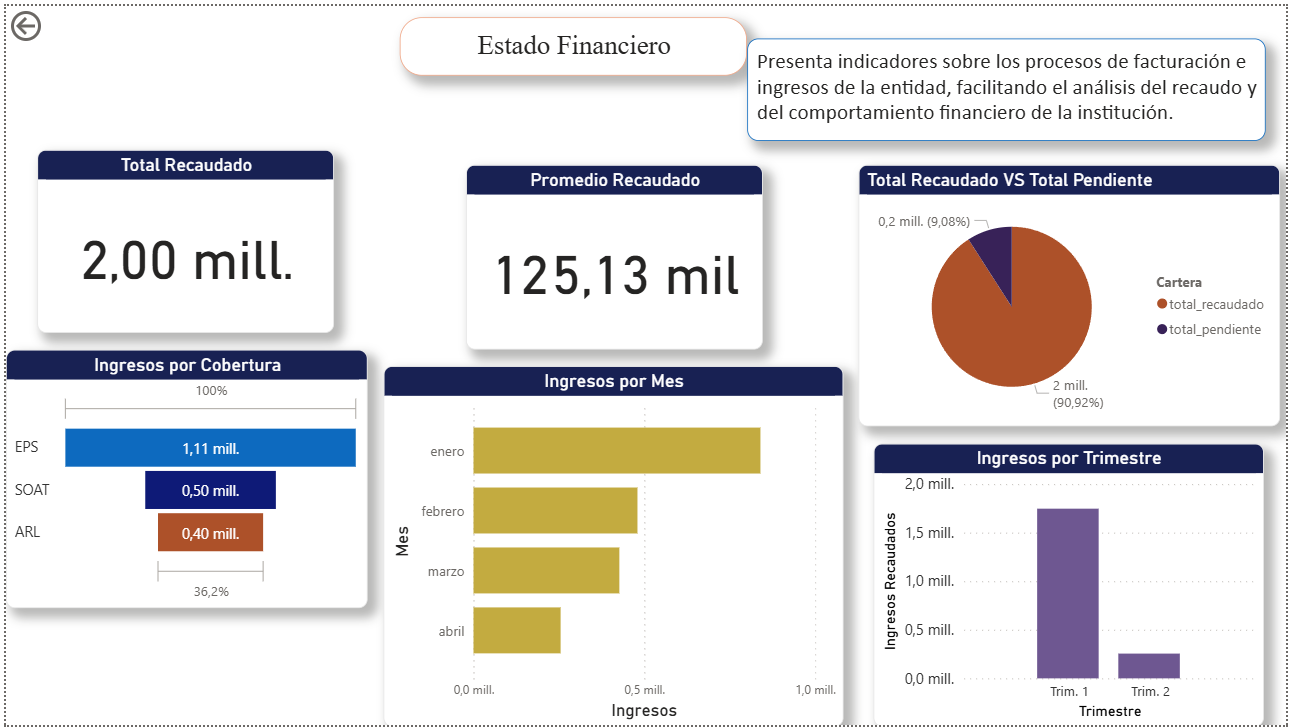

The page's visual inventory and layout, read from the dashboard file:
{"tool":"powerbi","page":{"name":"Facturación","canvas":[1280,720],"ordinal":2},"visuals":[{"type":"actionButton","box":[0,0,100,40],"z":0},{"type":"card","title":"Total Recaudado","fields":{"Values":["proyecto_hospital facturacion.total_recaudado"]},"box":[31.8,144.3,297.1,183.4],"z":1000},{"type":"card","title":"Promedio Recaudado","fields":{"Values":["proyecto_hospital facturacion.promedio_recaudado"]},"box":[459.8,159,297.1,184.6],"z":2000},{"type":"funnel","title":"Ingresos por Cobertura","fields":{"Y":["proyecto_hospital facturacion.total_recaudado"],"Category":["proyecto_hospital facturacion.tipo_cobertura"]},"box":[0,343.6,362,258],"z":3000},{"type":"clusteredBarChart","title":"Ingresos por Mes","fields":{"Y":["proyecto_hospital facturacion.total_recaudado"],"Category":["proyecto_hospital facturacion.fecha_factura.Variación.Jerarquía de fechas.Mes"]},"box":[377.9,359.5,459.8,360.7],"z":4000},{"type":"lineClusteredColumnComboChart","title":"Ingresos por Trimestre","fields":{"Y":["proyecto_hospital facturacion.total_recaudado"],"Category":["proyecto_hospital facturacion.fecha_factura.Variación.Jerarquía de fechas.Trimestre"]},"box":[867.1,437.1,390,282.9],"z":5000},{"type":"pieChart","title":"Total Recaudado VS Total Pendiente","fields":{"Y":["proyecto_hospital facturacion.total_recaudado","proyecto_hospital facturacion.total_pendiente"]},"box":[852.3,159,421.9,261.7],"z":6000},{"type":"textbox","box":[393.8,11,347.3,58.7],"z":7000},{"type":"textbox","box":[741,33,518.5,102.7],"z":8000}]}

Visuals, with their boxes in screenshot pixels (x1, y1, x2, y2), scaled from the page's 1280x720 canvas onto the 1290x727 screenshot:
actionButton: x1=0 y1=0 x2=101 y2=40
"Total Recaudado" card: x1=32 y1=146 x2=331 y2=331
"Promedio Recaudado" card: x1=463 y1=161 x2=763 y2=347
"Ingresos por Cobertura" funnel: x1=0 y1=347 x2=365 y2=607
"Ingresos por Mes" clusteredBarChart: x1=381 y1=363 x2=844 y2=726
"Ingresos por Trimestre" lineClusteredColumnComboChart: x1=874 y1=441 x2=1267 y2=726
"Total Recaudado VS Total Pendiente" pieChart: x1=859 y1=161 x2=1284 y2=425
textbox: x1=397 y1=11 x2=747 y2=70
textbox: x1=747 y1=33 x2=1269 y2=137
